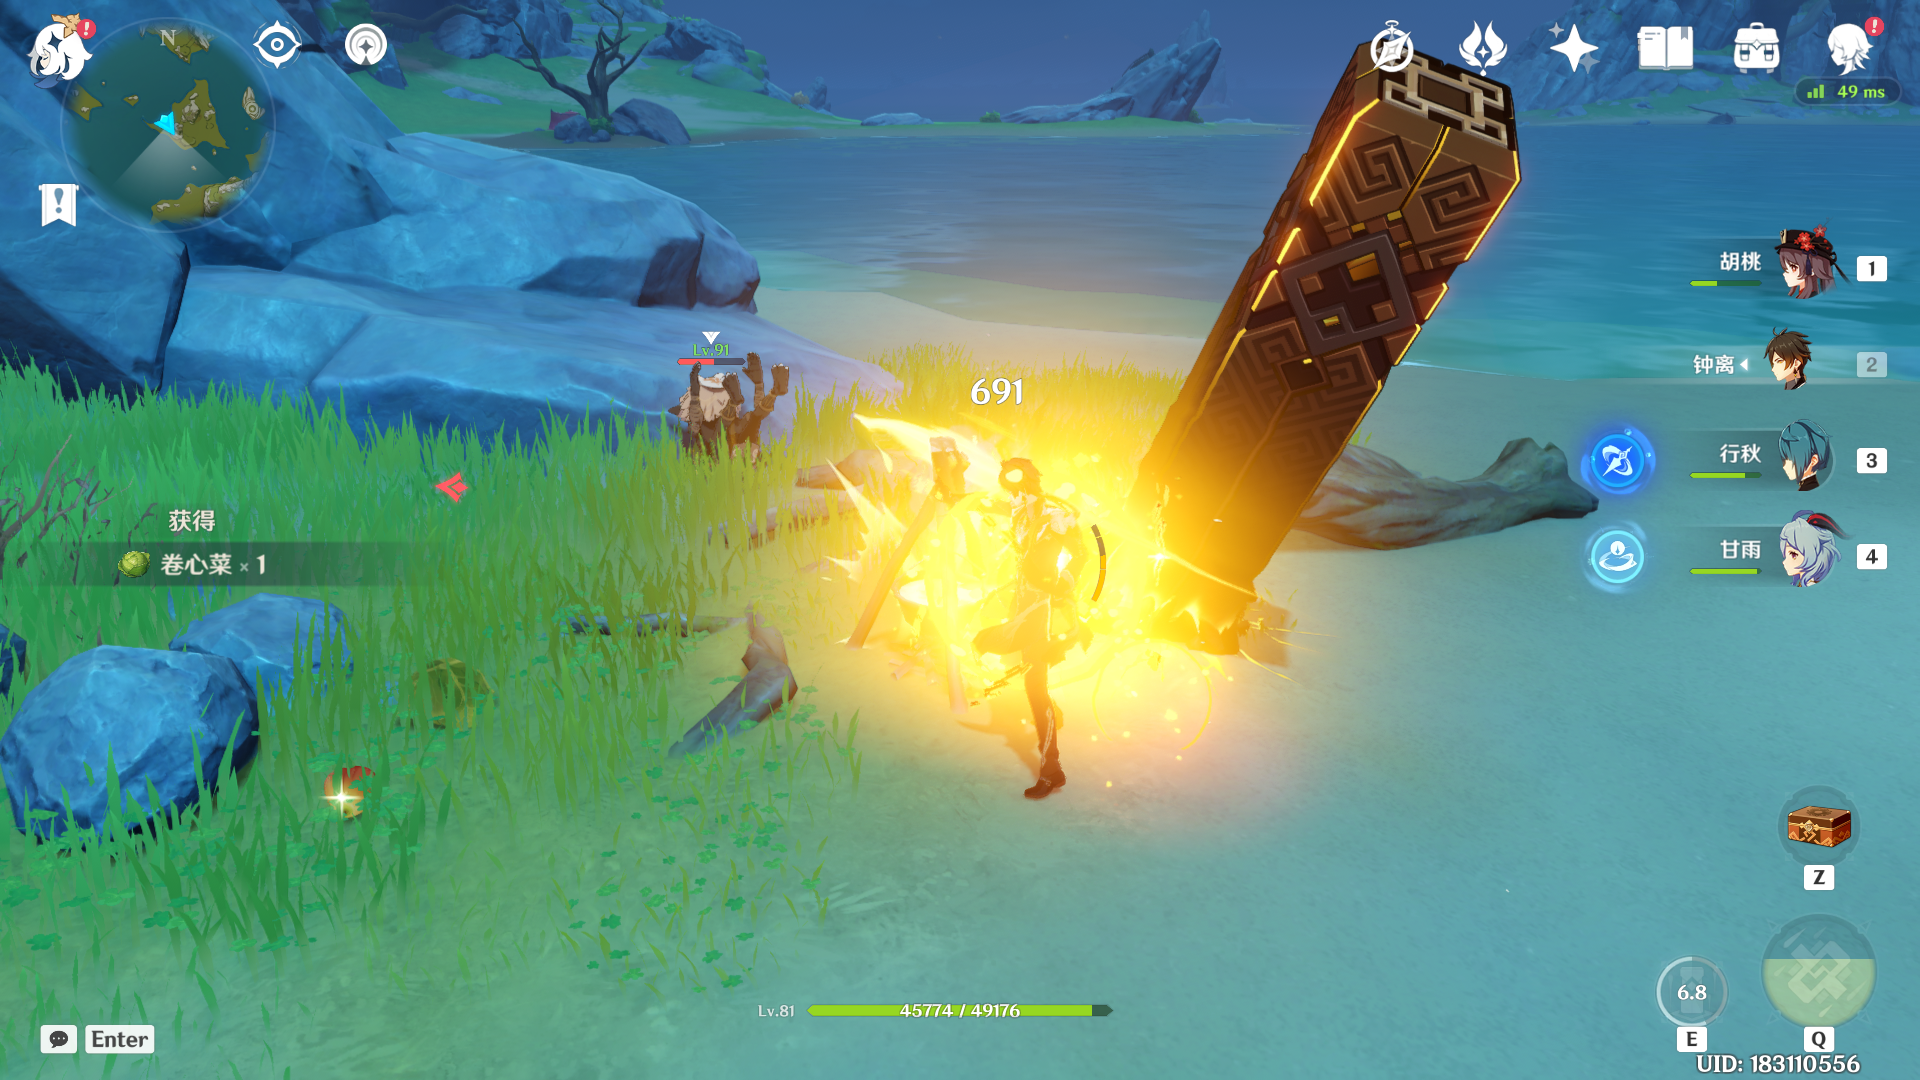character: (928, 429, 1153, 799)
hili: (637, 353, 818, 481)
